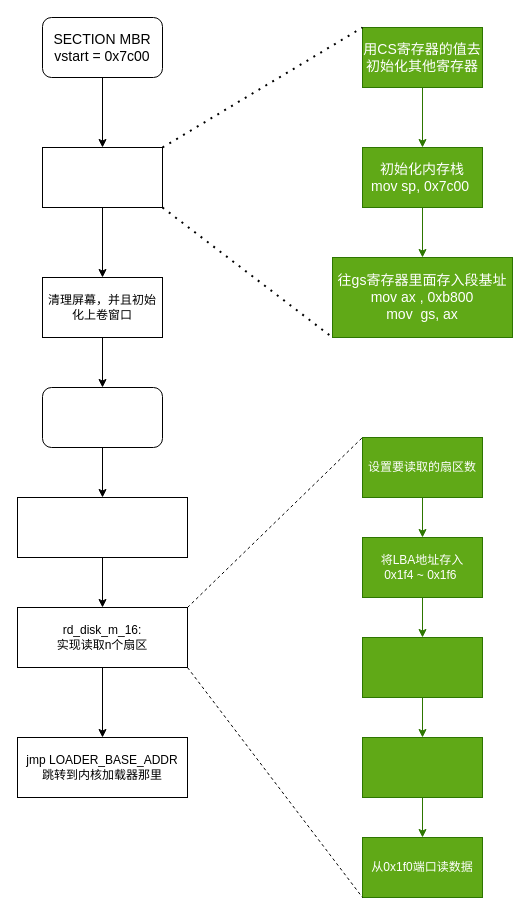
The diagram is 530 pixels wide and 916 high, and some of its shapes have lost their labels. The centre of each missing label's shape, as x and y in pixels:
初始化: [102,177]
初始化起始扇区的lba地址 以及相应的写入的逻辑地址: [102,527]
向0x1f7端口写入命令: [422,667]
检测硬盘状态: [422,767]
输出跳动字符串 ”1 MBR“: [102,417]
